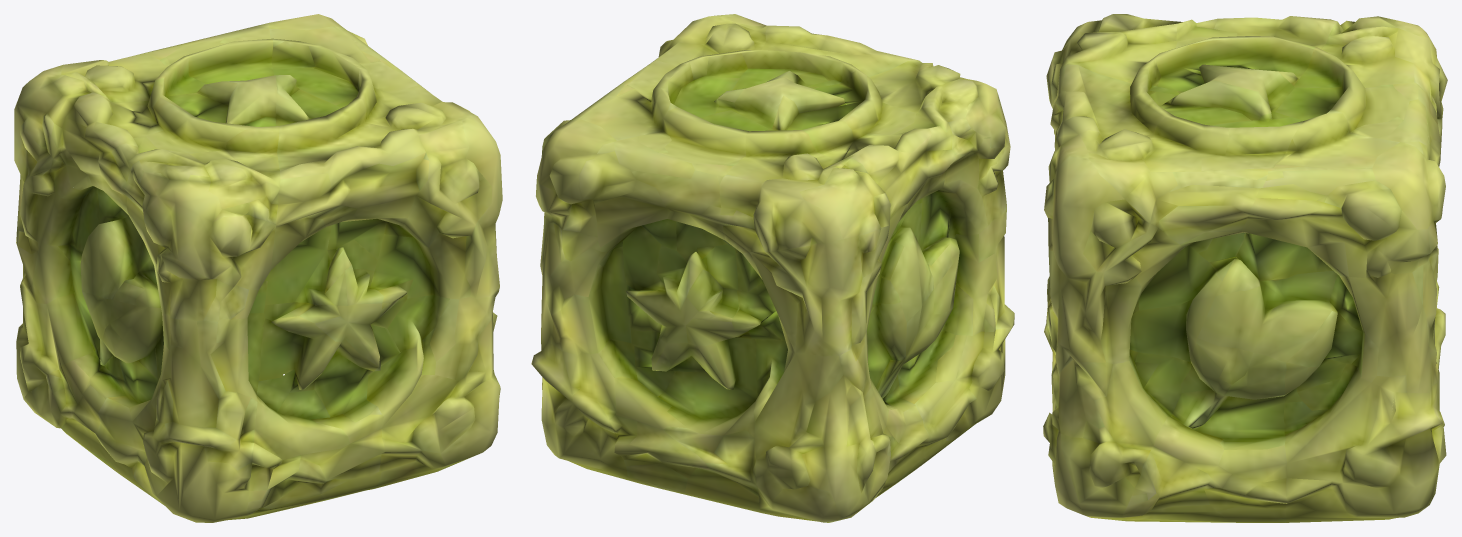
The model's file is tree.glb.
3 views of the same model, side by side, from view 1: azimuth 30°, elevation 25°; view 2: azimuth 150°, elevation 25°; view 3: azimuth 270°, elevation 25° (orthographic). The views are drawn at different scales.
Parts seen in each view (by area): view 1: tripo_node_2bef3fad-121c-45cd-9687-99d10f158f5b; view 2: tripo_node_2bef3fad-121c-45cd-9687-99d10f158f5b; view 3: tripo_node_2bef3fad-121c-45cd-9687-99d10f158f5b.
Boxes of the visible parts, <box> form: tripo_node_2bef3fad-121c-45cd-9687-99d10f158f5b: <box>14,14,502,522</box>; tripo_node_2bef3fad-121c-45cd-9687-99d10f158f5b: <box>531,14,1014,522</box>; tripo_node_2bef3fad-121c-45cd-9687-99d10f158f5b: <box>1043,14,1447,522</box>.
Bounding box in the file's own units: 0.9568 × 0.9774 × 0.9481.
Materials: 1 (1 with a texture image).
